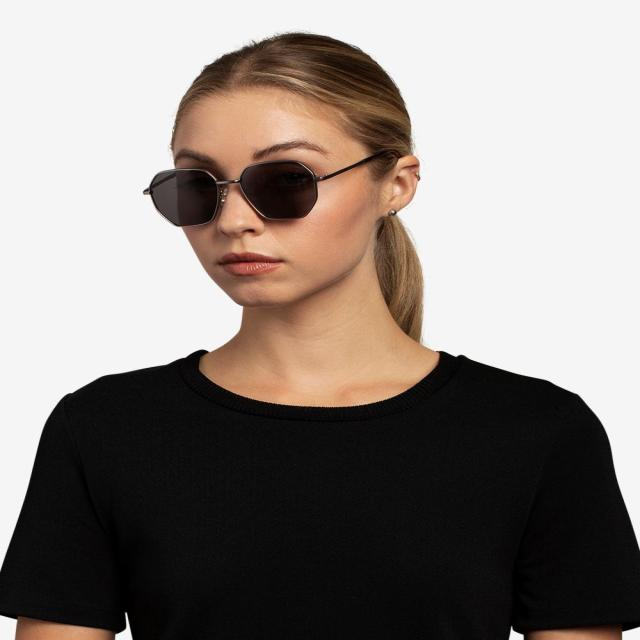2_gafas: (142, 148, 392, 228)
